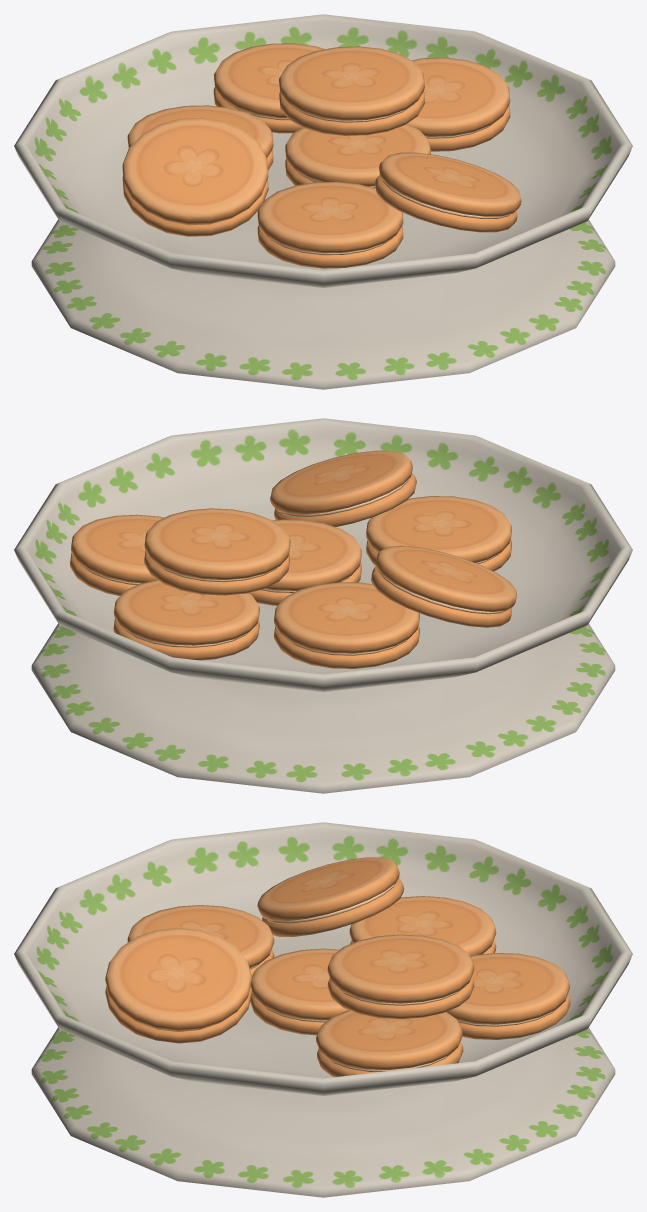
The model's file is biscuit_on_plate_0.fbx.
3 views of the same model, one above another, from view 1: azimuth 30°, elevation 25°; view 2: azimuth 150°, elevation 25°; view 3: azimuth 270°, elevation 25° (orthographic).
Visible parts, largest first — view 1: biscuites_&_plate.010; view 2: biscuites_&_plate.010; view 3: biscuites_&_plate.010.
Boxes of the visible parts, left/top/right/bottom form: biscuites_&_plate.010: left=14, top=14, right=632, bottom=389; biscuites_&_plate.010: left=14, top=418, right=632, bottom=793; biscuites_&_plate.010: left=14, top=822, right=632, bottom=1197.
Size of the model in its own units: 21.21 by 5.67 by 21.21.
